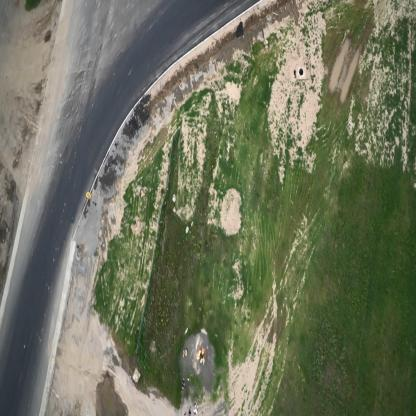fire: (197, 347, 210, 364)
